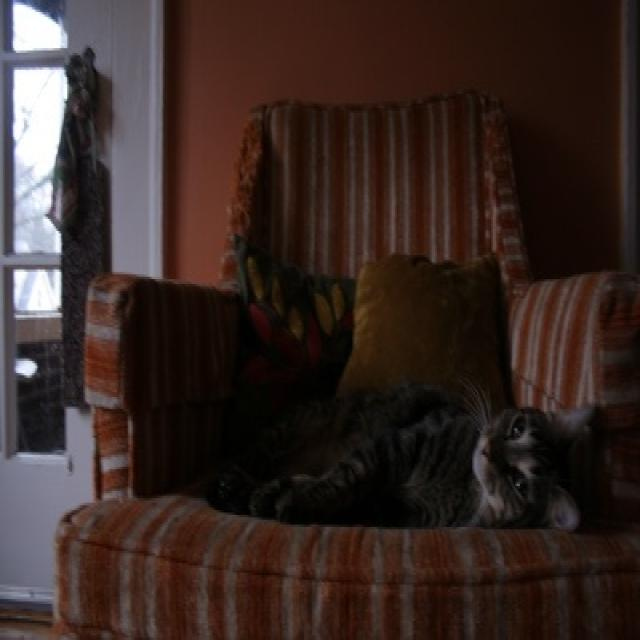Cat: (202, 381, 617, 570)
chair: (87, 95, 640, 640)
